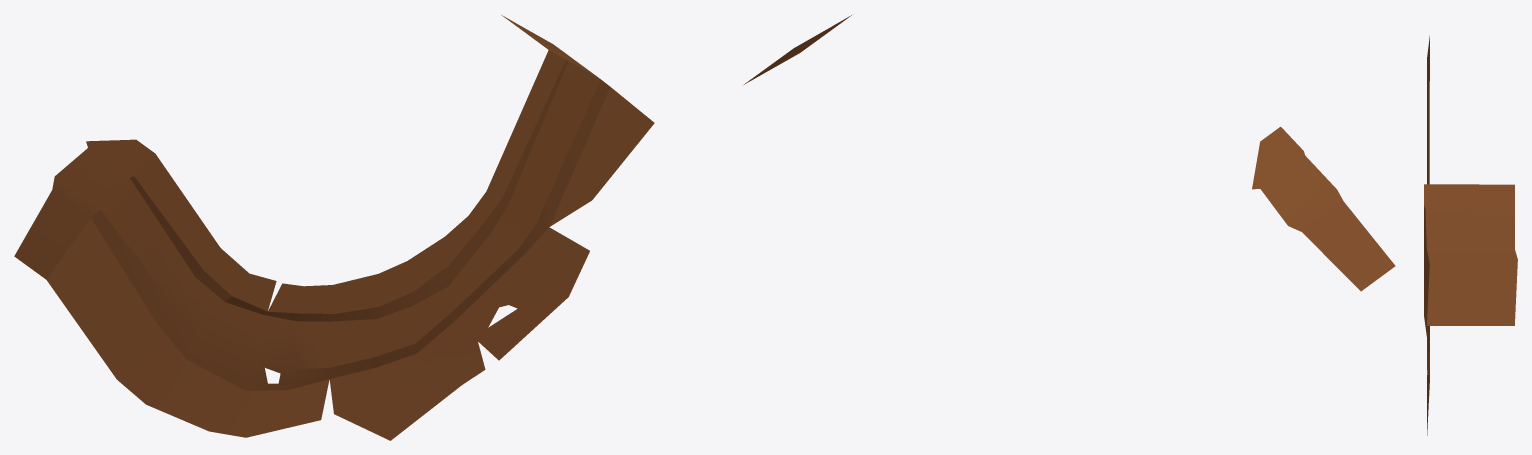
Rendered from Flag_GothicArch.glb.
3 renders of one model, left to right at view 1: azimuth 30°, elevation 25°; view 2: azimuth 150°, elevation 25°; view 3: azimuth 270°, elevation 25°, orthographic. The views are drawn at different scales.
Visible parts, largest first — view 1: Flag_GothicArch_Cylinder.039; view 2: Flag_GothicArch_Cylinder.039; view 3: Flag_GothicArch_Cylinder.039.
Boxes of the visible parts, x1,y1,x2,y2 form: Flag_GothicArch_Cylinder.039: (14, 15, 654, 440); Flag_GothicArch_Cylinder.039: (744, 15, 1395, 291); Flag_GothicArch_Cylinder.039: (1424, 36, 1517, 435).
Size of the model in its own units: 2.19 by 1.22 by 0.316.
